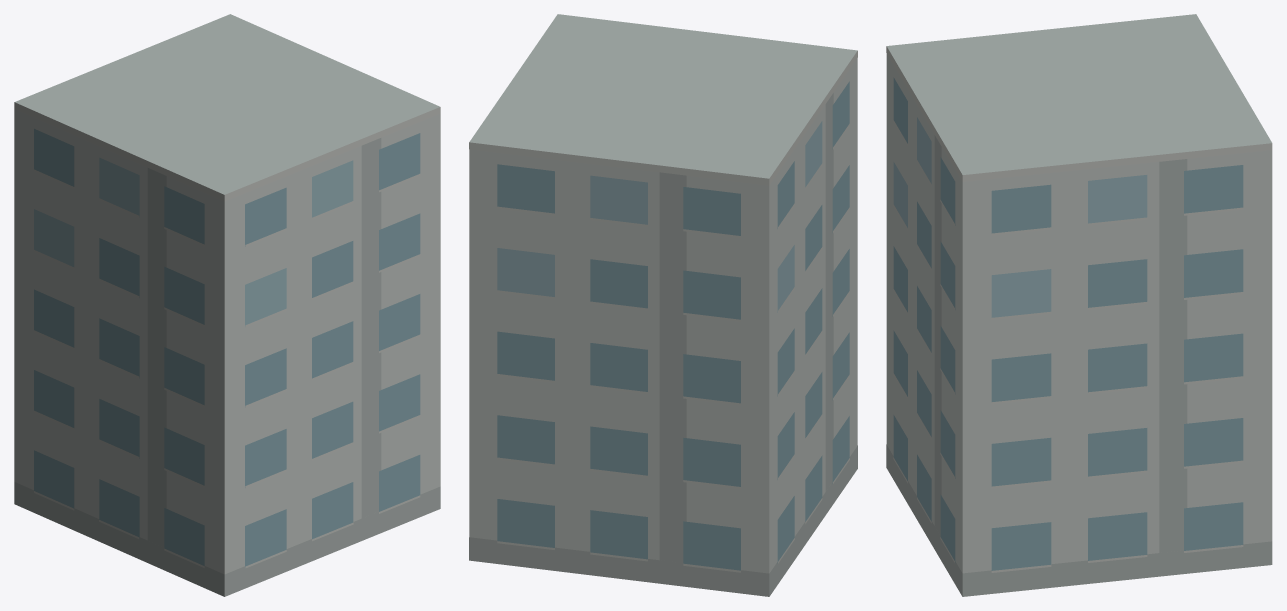
The model's file is survey-upis-32705110.glb.
3 views of the same model, side by side, from view 1: azimuth 30°, elevation 25°; view 2: azimuth 150°, elevation 25°; view 3: azimuth 270°, elevation 25° (orthographic). The views are drawn at different scales.
Visible parts, largest first — view 1: survey-upis-32705110.tmp; view 2: survey-upis-32705110.tmp; view 3: survey-upis-32705110.tmp.
Boxes of the visible parts, left/top/right/bottom form: survey-upis-32705110.tmp: left=14, top=14, right=440, bottom=596; survey-upis-32705110.tmp: left=469, top=14, right=857, bottom=596; survey-upis-32705110.tmp: left=886, top=14, right=1272, bottom=596.
Bounding box in the file's own units: 12.05 × 14.7 × 12.2.
